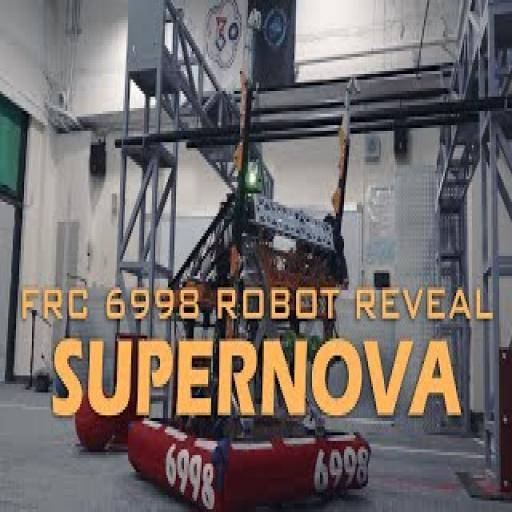robot: (126, 68, 370, 492)
